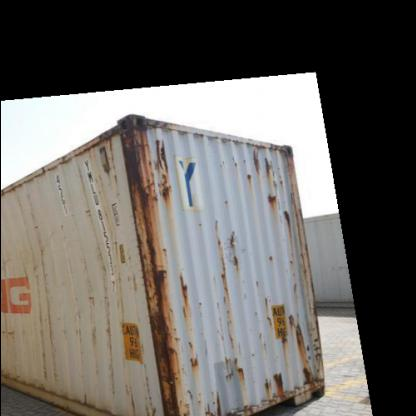Damage: (142, 284, 185, 406), (149, 119, 169, 298), (212, 216, 236, 338), (238, 148, 286, 208), (104, 114, 140, 190), (247, 356, 292, 410), (292, 312, 318, 382)
